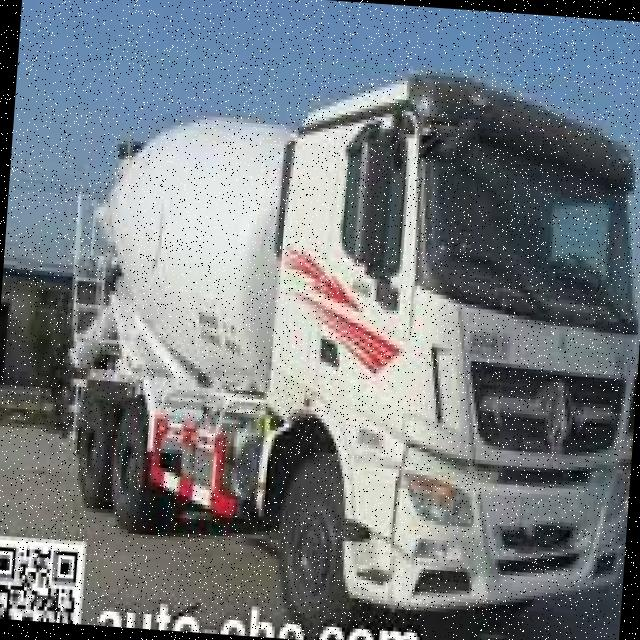Mixer Truck: (40, 42, 640, 640)
